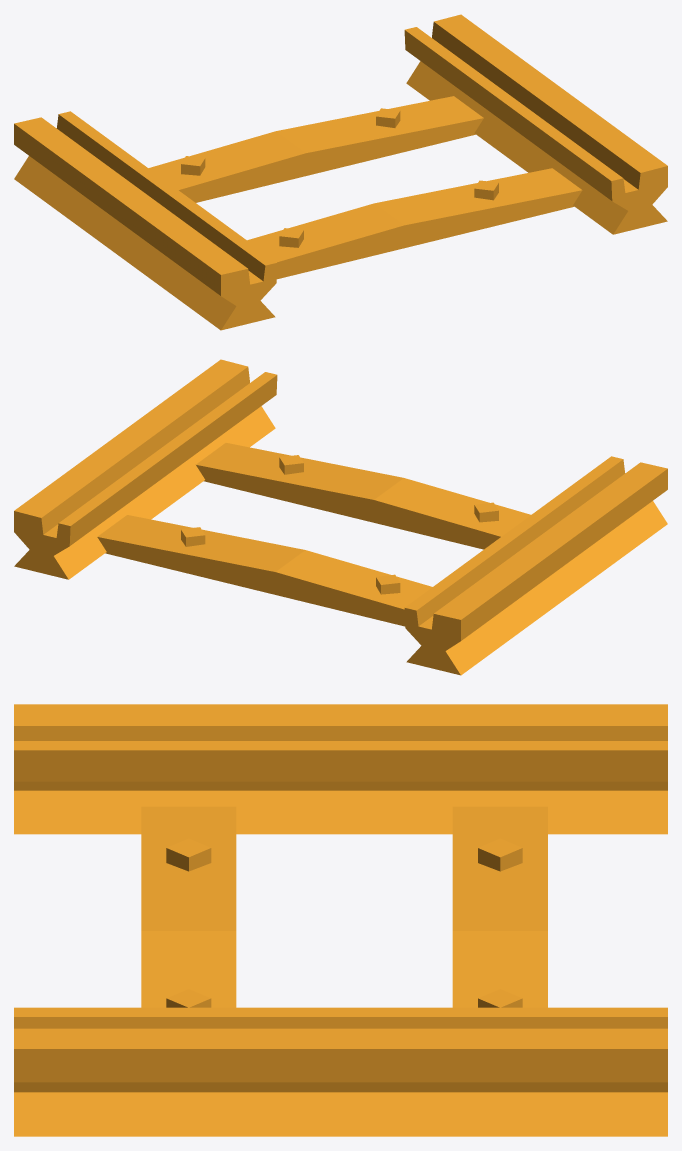
Rendered from SM_Rail_Tram_1m.fbx.
3 views of the same model, one above another, from view 1: azimuth 30°, elevation 25°; view 2: azimuth 150°, elevation 25°; view 3: azimuth 270°, elevation 25° (orthographic). The views are drawn at different scales.
Parts seen in each view (by area): view 1: rail-tram-1m; view 2: rail-tram-1m; view 3: rail-tram-1m.
Part boxes in pixels (box(x1,y1,x2,y2)): rail-tram-1m: box(14, 14, 667, 330); rail-tram-1m: box(14, 359, 667, 675); rail-tram-1m: box(14, 704, 667, 1136).
Size of the model in its own units: 1.25 by 0.1529 by 1.
